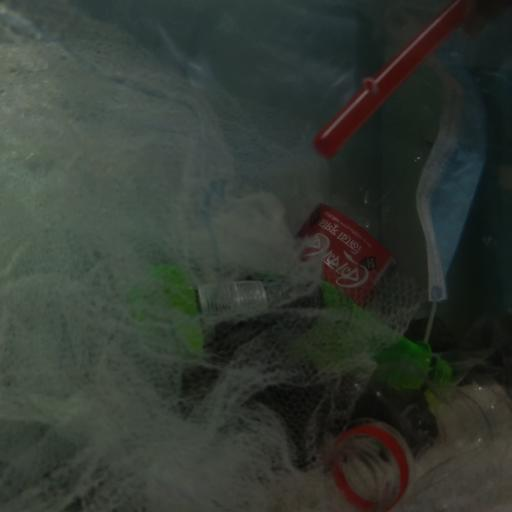mask: (413, 45, 491, 307)
net: (1, 0, 395, 512)
plastic_bottle: (123, 267, 453, 400), (321, 313, 512, 512), (292, 129, 418, 310)
plastic_straw: (314, 2, 473, 156)
